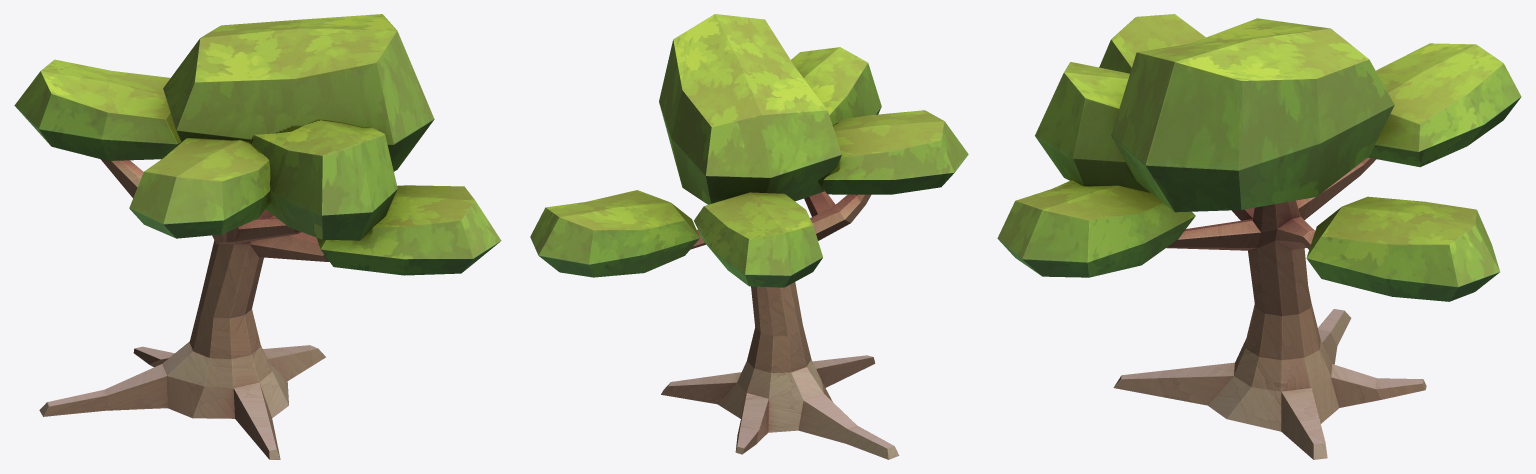
The model's file is arbol-3.glb.
3 renders of one model, left to right at view 1: azimuth 30°, elevation 25°; view 2: azimuth 150°, elevation 25°; view 3: azimuth 270°, elevation 25°, orthographic. The views are drawn at different scales.
Parts seen in each view (by area): view 1: Hojas3, Arbol3; view 2: Hojas3, Arbol3; view 3: Hojas3, Arbol3.
Part boxes in pixels (x1,y1,x2,y2): Hojas3: (14,14,501,275); Arbol3: (39,159,329,459); Hojas3: (530,14,968,287); Arbol3: (661,191,899,459); Hojas3: (997,14,1521,301); Arbol3: (1113,157,1426,459).
Bounding box in the file's own units: 3.88 × 3.88 × 4.58.
2 materials, 2 textured.
